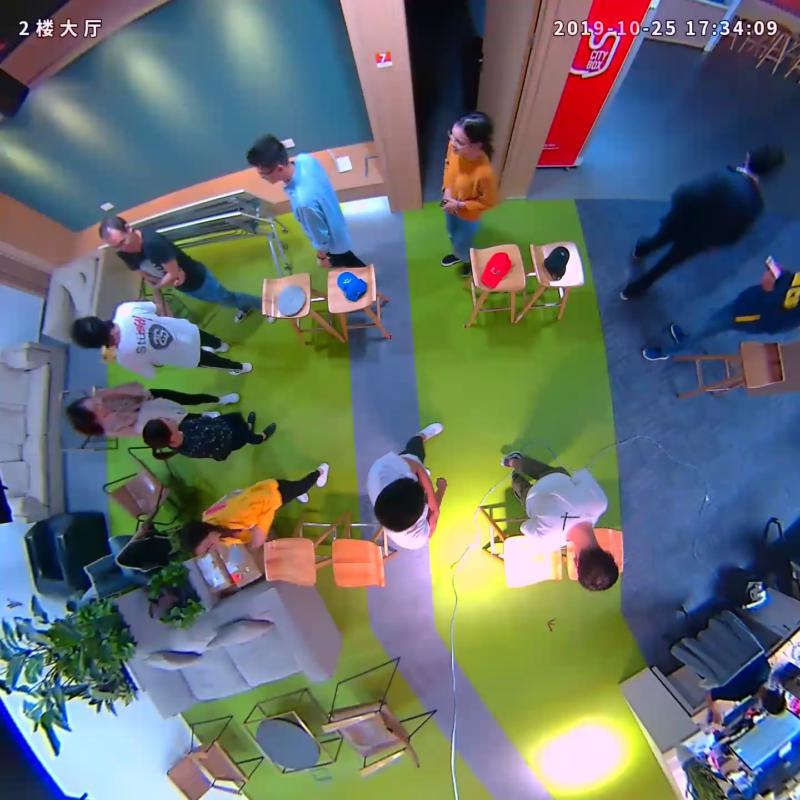head: (374, 477, 428, 532), (572, 546, 618, 593), (246, 134, 288, 184), (450, 110, 493, 156), (97, 215, 139, 254), (181, 521, 221, 557), (72, 315, 111, 350), (746, 142, 783, 177), (142, 417, 179, 447), (67, 395, 102, 423)
